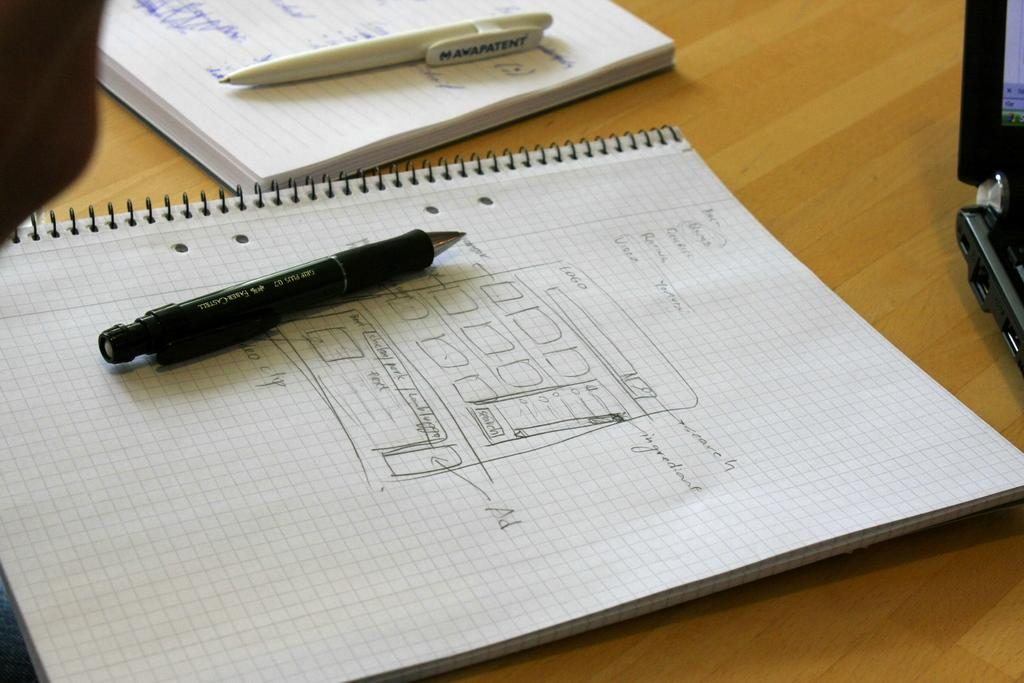pen: (99, 224, 475, 361), (219, 0, 561, 83)
